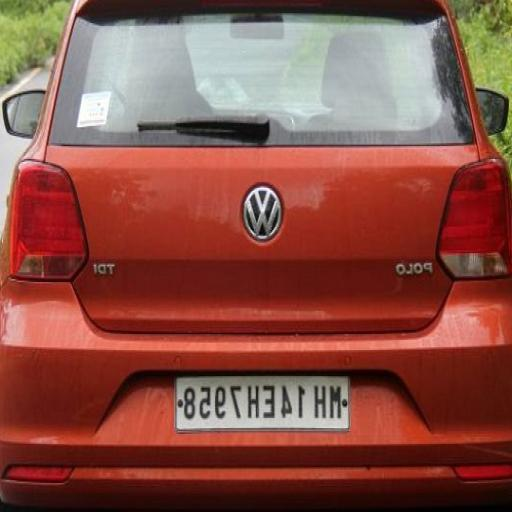License: (178, 372, 350, 430)
